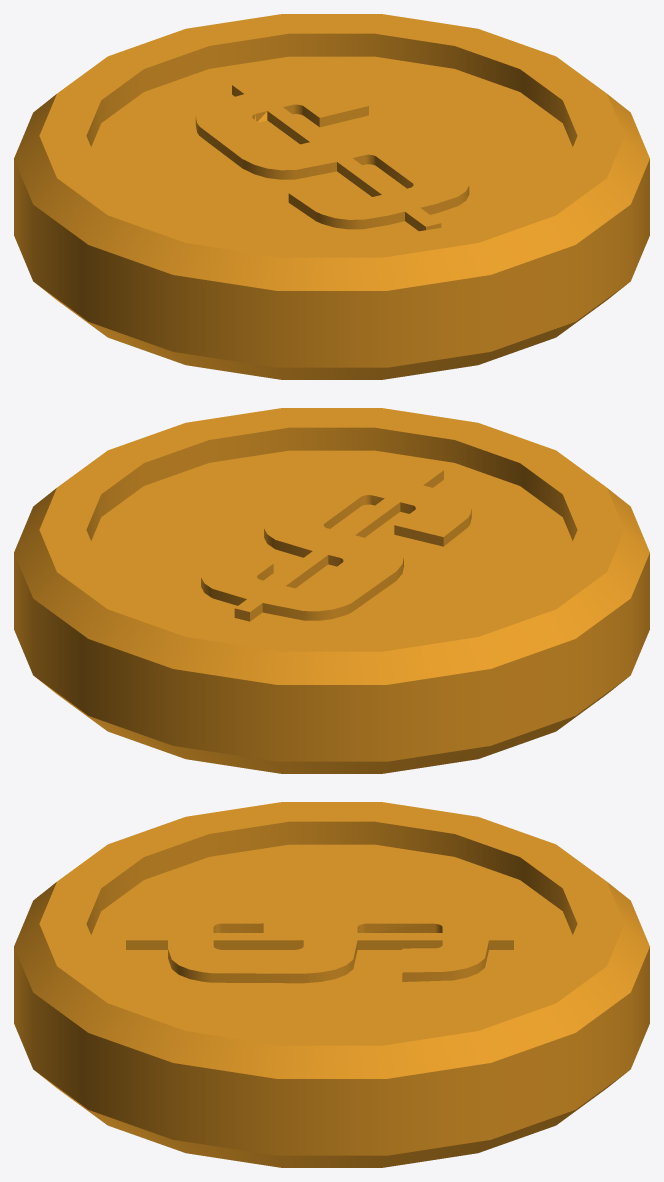
File: coin_new.glb
3 views of the same model, one above another, from view 1: azimuth 30°, elevation 25°; view 2: azimuth 150°, elevation 25°; view 3: azimuth 270°, elevation 25° (orthographic).
Visible parts, largest first — view 1: Coin_New; view 2: Coin_New; view 3: Coin_New.
Boxes of the visible parts, left/top/right/bottom form: Coin_New: left=14, top=14, right=649, bottom=379; Coin_New: left=14, top=408, right=649, bottom=773; Coin_New: left=14, top=802, right=649, bottom=1167.
Bounding box in the file's own units: 1.97 × 0.424 × 2.
